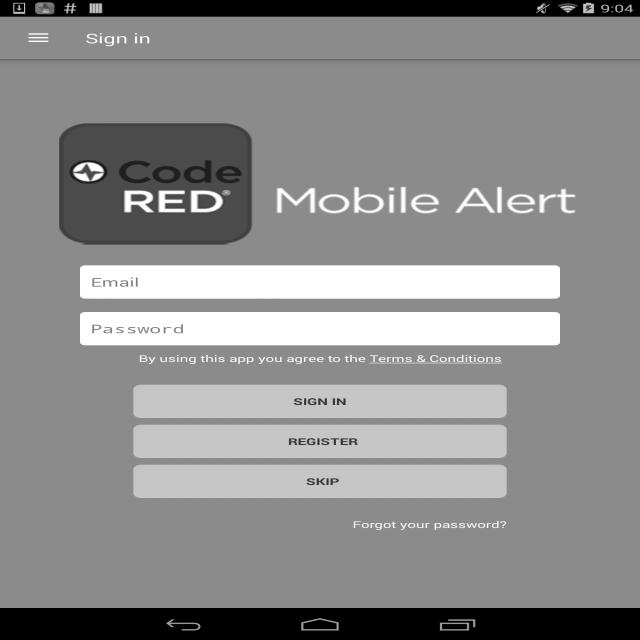Button: (133, 385, 507, 418), (133, 425, 507, 458), (133, 465, 507, 498)
EditText: (80, 265, 560, 299), (80, 312, 560, 345)
ImageButton: (9, 17, 68, 59)
ImageView: (49, 117, 592, 252)
TextView: (11, 352, 629, 365), (352, 518, 507, 531), (85, 29, 151, 47)
